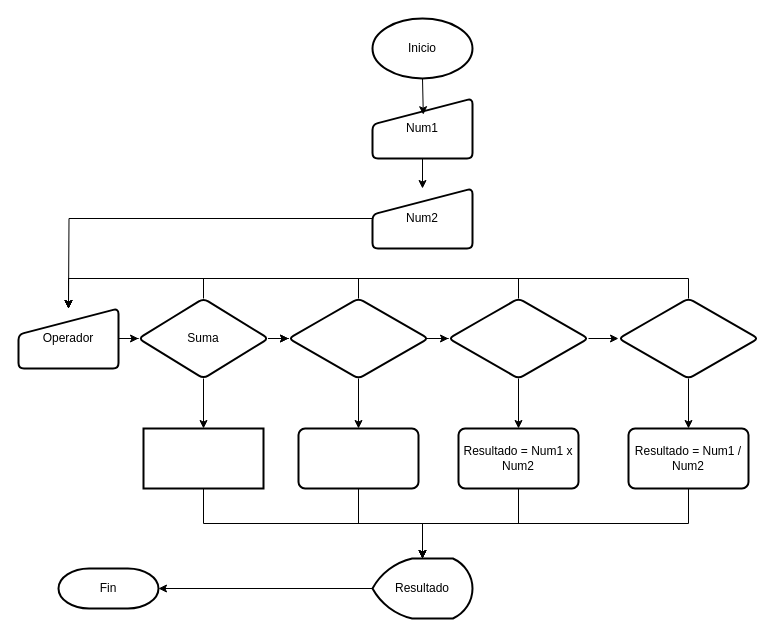
Image size: 776x636. Some labels were removed from this diagram. Each missing label, with the centre of its shape:
División: the point at 688,338
Multiplicación: the point at 518,338
Resta: the point at 358,338
Resultado = Num1 + Num2: the point at 203,458
Resultado = Num1 - Num2: the point at 358,458
